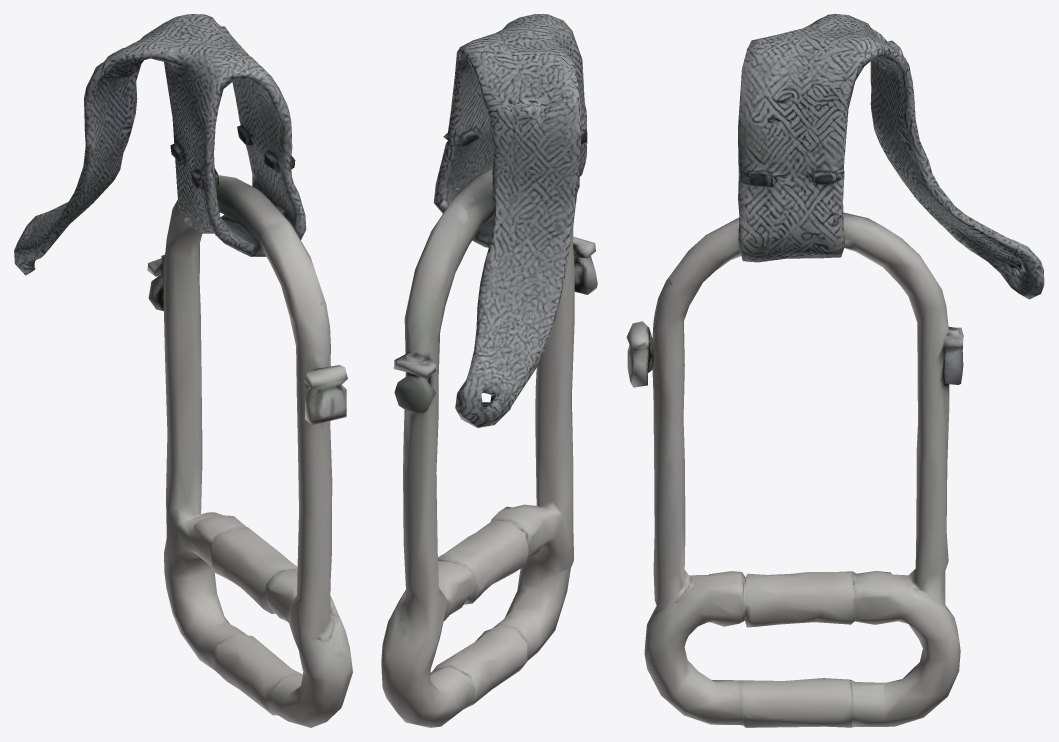
Rendered from bus-strap.glb.
The picture shows the model from 3 angles, left to right: view 1: azimuth 30°, elevation 25°; view 2: azimuth 150°, elevation 25°; view 3: azimuth 270°, elevation 25°; orthographic projection. The views are drawn at different scales.
Parts seen in each view (by area): view 1: tripo_node_86c4ee67-24dc-4070-8fad-e7d788404295; view 2: tripo_node_86c4ee67-24dc-4070-8fad-e7d788404295; view 3: tripo_node_86c4ee67-24dc-4070-8fad-e7d788404295.
Boxes of the visible parts, box(x1,y1,x2,y2) form: tripo_node_86c4ee67-24dc-4070-8fad-e7d788404295: box(14, 14, 352, 727); tripo_node_86c4ee67-24dc-4070-8fad-e7d788404295: box(381, 14, 597, 727); tripo_node_86c4ee67-24dc-4070-8fad-e7d788404295: box(626, 14, 1044, 727).
Bounding box in the file's own units: 0.2643 × 1 × 0.5671.
Materials: 1 (1 with a texture image).
